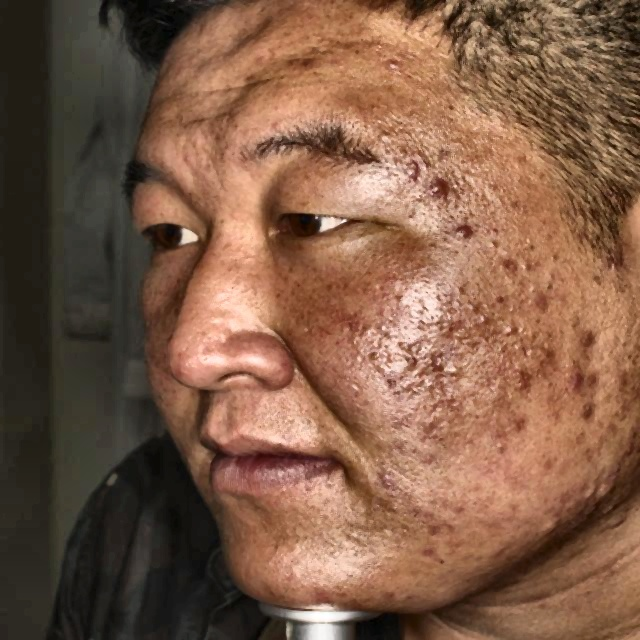pustule: (524, 288, 564, 326), (448, 216, 486, 254), (401, 148, 434, 187), (572, 398, 612, 427), (412, 503, 448, 535), (569, 358, 601, 392), (423, 167, 451, 204), (525, 344, 560, 372), (505, 363, 533, 394), (582, 324, 612, 348), (423, 546, 445, 559)
